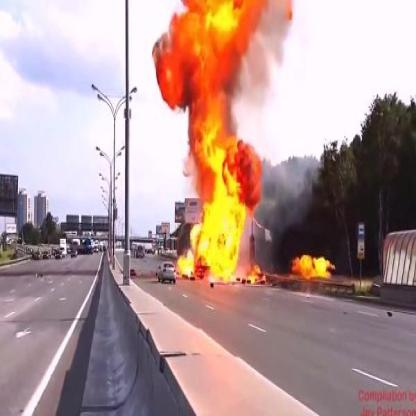fire: (151, 1, 273, 286), (290, 247, 339, 288)
